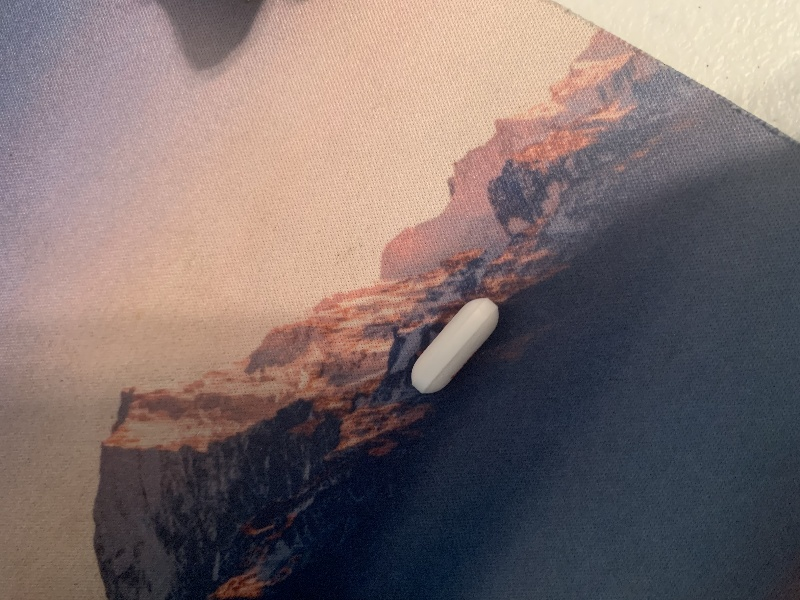Tylenol: (408, 294, 501, 396)
